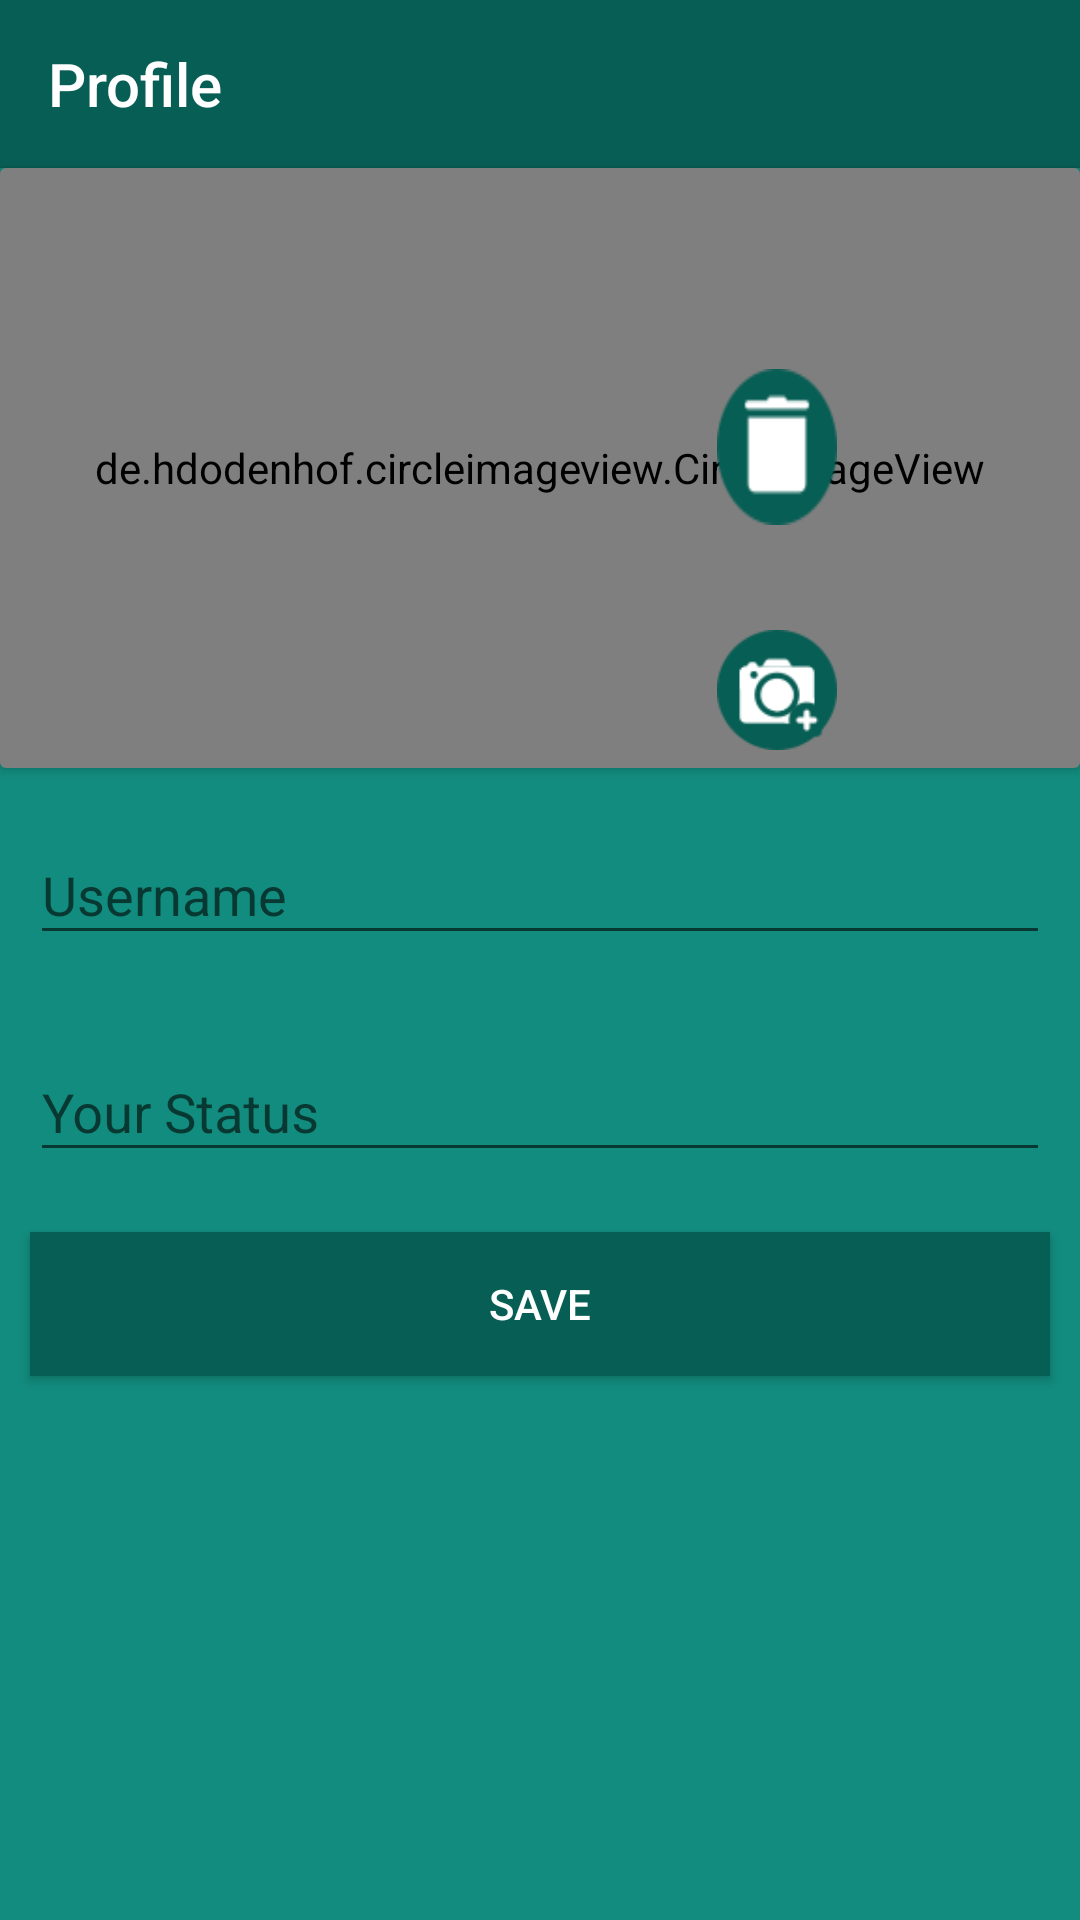

Icons on this 1080w x 1920h Android screen, each with its box as (x1, y1, x2, y2):
addphoto: (717, 630, 837, 750)
trash: (717, 369, 837, 525)
